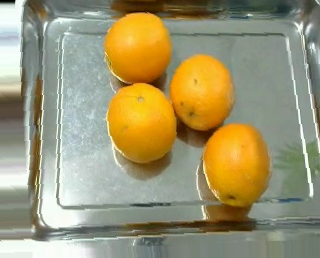Orange: (203, 123, 271, 207), (105, 83, 175, 163), (170, 53, 236, 131), (104, 13, 172, 83)
